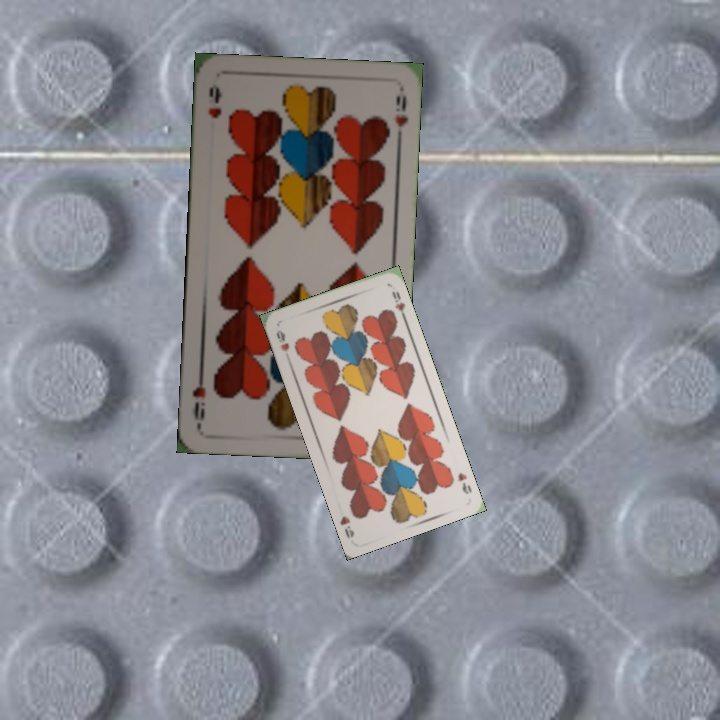H9: (204, 80, 225, 121), (454, 468, 474, 497), (272, 326, 292, 354)
